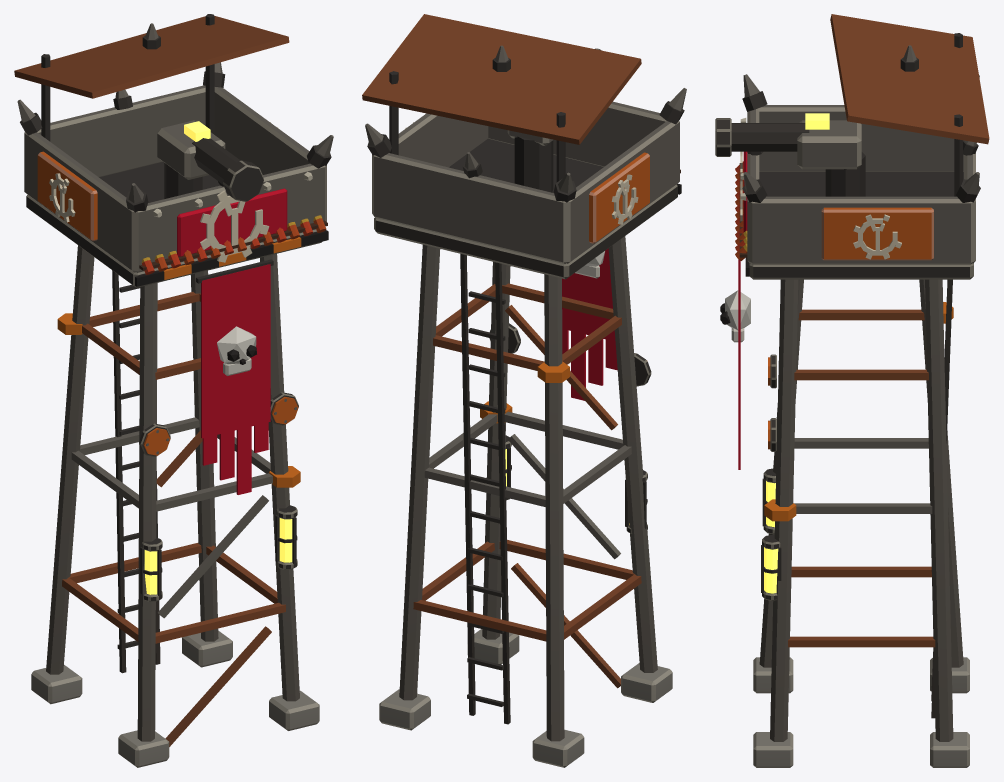
Rendered from bb_tower.glb.
3 renders of one model, left to right at view 1: azimuth 30°, elevation 25°; view 2: azimuth 150°, elevation 25°; view 3: azimuth 270°, elevation 25°, orthographic.
Visible parts, largest first — view 1: bb_tower; view 2: bb_tower; view 3: bb_tower.
Part boxes in pixels (<box>): bb_tower: <box>14,14,333,767</box>; bb_tower: <box>362,14,686,767</box>; bb_tower: <box>715,14,989,767</box>.
Size of the model in its own units: 3.12 by 9.31 by 3.41.
